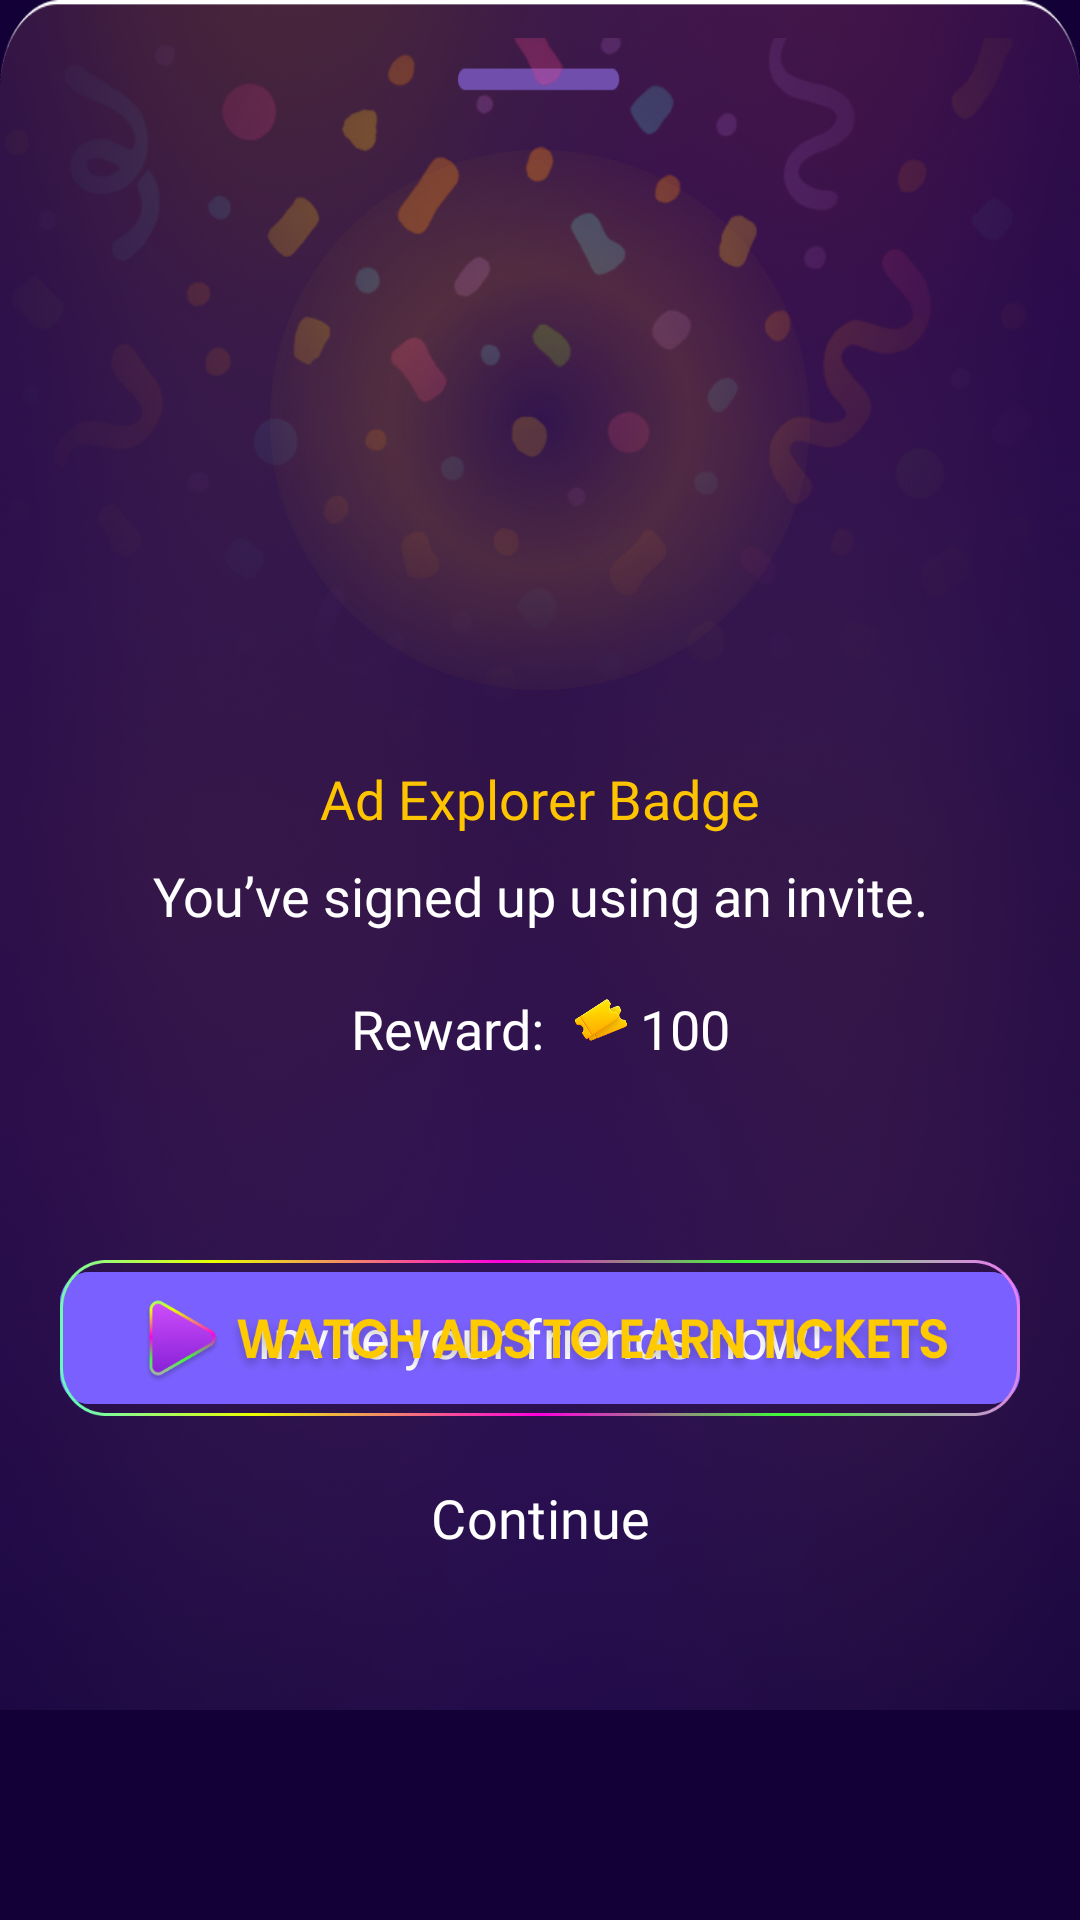

Named icons in this screenshot (1080×1920) and their centers, (x=x, y=y):
ticket: (x=601, y=1020)
